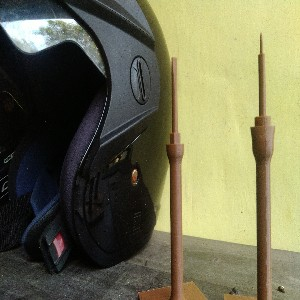obeng: (165, 56, 185, 300)
solder: (249, 31, 276, 300)
